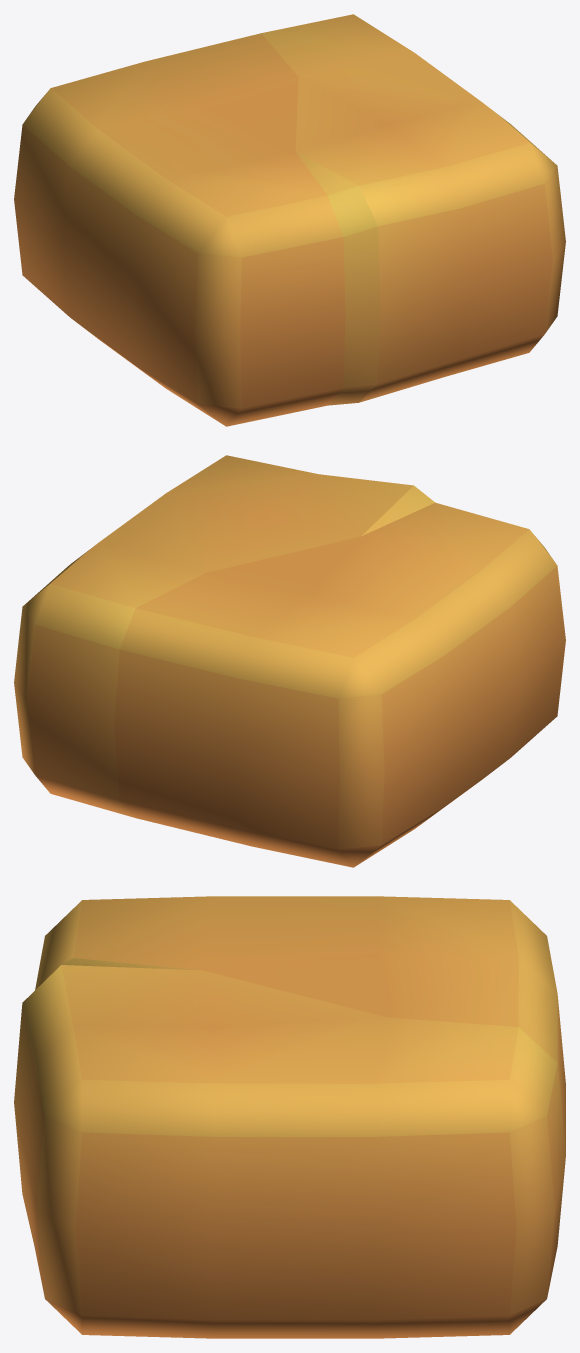
The model's file is cube_03_alt.fbx.
3 views of the same model, one above another, from view 1: azimuth 30°, elevation 25°; view 2: azimuth 150°, elevation 25°; view 3: azimuth 270°, elevation 25° (orthographic). The views are drawn at different scales.
Visible parts, largest first — view 1: cube_03_alt; view 2: cube_03_alt; view 3: cube_03_alt.
Part boxes in pixels (x1,y1,x2,y2): cube_03_alt: (14, 14, 565, 426); cube_03_alt: (14, 455, 565, 867); cube_03_alt: (14, 896, 565, 1338).
Size of the model in its own units: 112 by 60.18 by 114.
